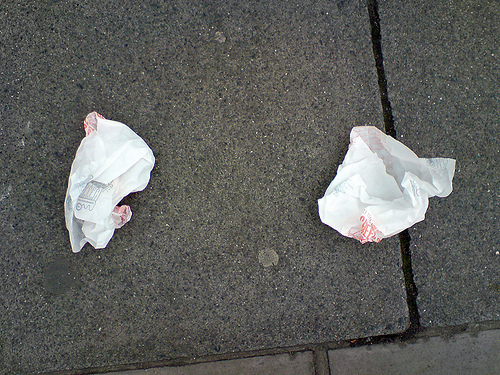litter: (316, 123, 456, 245), (62, 110, 155, 252)
